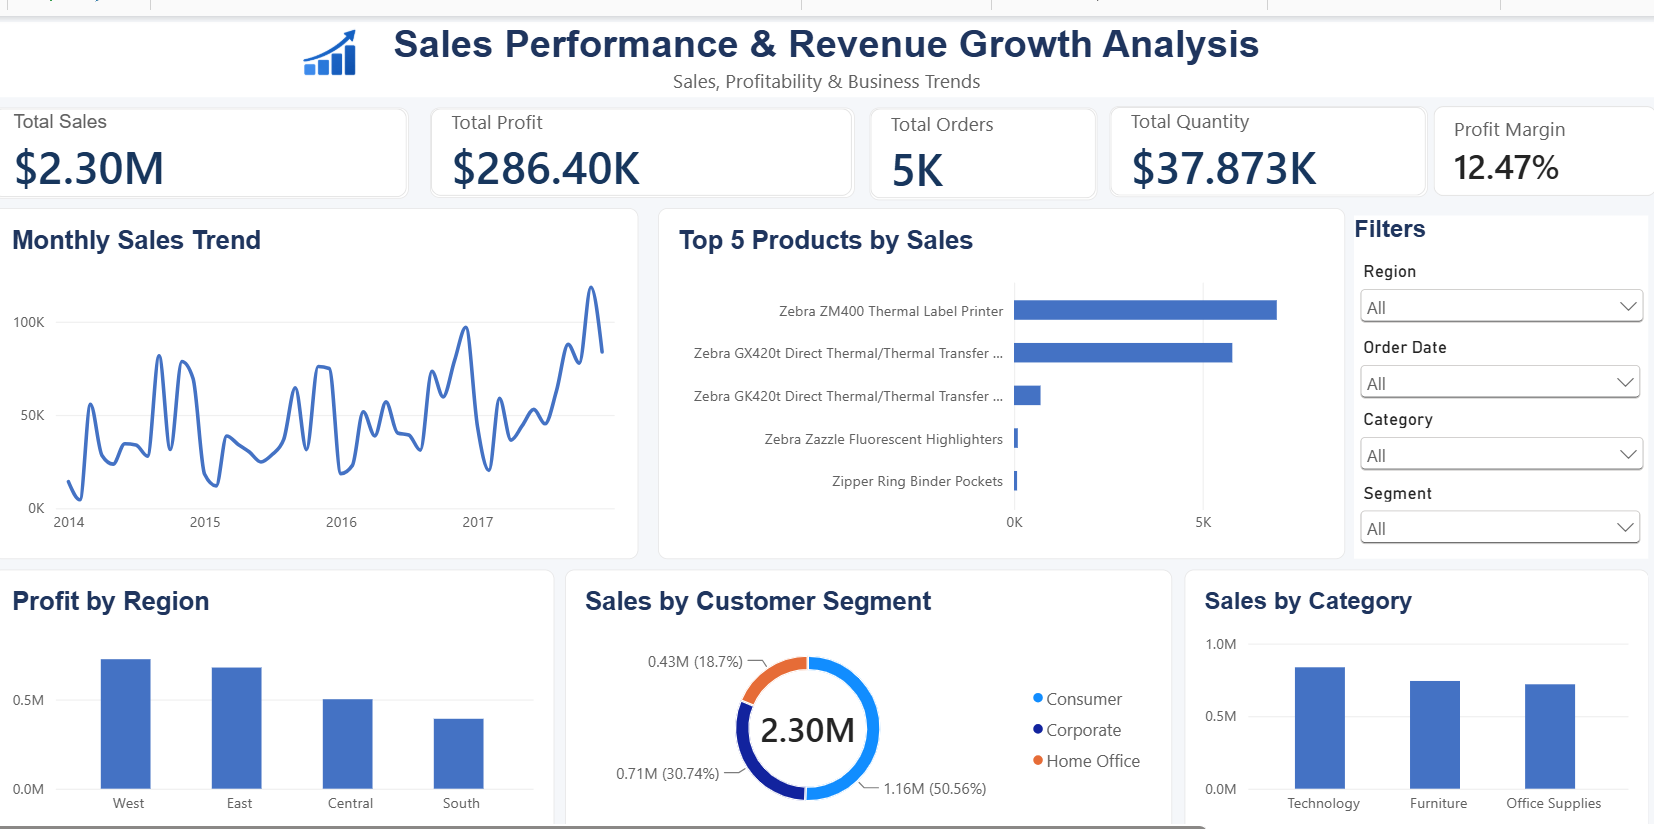

The page's visual inventory and layout, read from the dashboard file:
{"tool":"powerbi","page":{"name":"Sales Overview","canvas":[1920,1080],"ordinal":0},"visuals":[{"type":"cardVisual","fields":{"Data":["Superstore_Cleaned.Total Sales"]},"box":[0,80,347.5,76.2],"z":0},{"type":"cardVisual","fields":{"Data":["Superstore_Cleaned.Total Profit"]},"box":[365,80,353.8,75],"z":1},{"type":"cardVisual","fields":{"Data":["Superstore_Cleaned.Total Quantity"]},"box":[931.2,80,265,76.2],"z":2},{"type":"cardVisual","fields":{"Data":["Superstore_Cleaned.Total Orders"]},"box":[731.2,80,190,77.5],"z":3},{"type":"lineChart","title":"Monthly Sales Trend","fields":{"Category":["Superstore_Cleaned.Order Date.Variation.Date Hierarchy.Year","Superstore_Cleaned.Order Date.Variation.Date Hierarchy.Month"],"Y":["Sum(Superstore_Cleaned.Sales)"]},"box":[0,165,538.8,292.5],"z":4},{"type":"donutChart","title":"Sales by Customer Segment","fields":{"Category":["Superstore_Cleaned.Segment"],"Y":["Sum(Superstore_Cleaned.Sales)"]},"box":[477.5,466.2,506.2,227.5],"z":9},{"type":"slicer","title":"Filters","fields":{"Values":["Superstore_Cleaned.Region"]},"box":[1135,171.2,246.2,286.2],"z":10},{"type":"slicer","title":"Filter by Order Date","fields":{"Values":["Superstore_Cleaned.Order Date"]},"box":[1135,272.5,243.8,60],"z":11},{"type":"clusteredColumnChart","title":"Profit by Region","fields":{"Category":["Superstore_Cleaned.Region"],"Y":["Sum(Superstore_Cleaned.Sales)"]},"box":[0,466.2,468.8,225],"z":13},{"type":"clusteredBarChart","title":"Top 5 Products by Sales ","fields":{"Category":["Superstore_Cleaned.Product Name"],"Y":["Sum(Superstore_Cleaned.Sales)"]},"box":[555,165,572.5,292.5],"z":15},{"type":"clusteredColumnChart","title":"Sales by Category","fields":{"Category":["Superstore_Cleaned.Category"],"Y":["Sum(Superstore_Cleaned.Sales)"]},"box":[993.8,466.2,387.5,225],"z":16},{"type":"cardVisual","fields":{"Data":["Superstore_Cleaned.Profit Margin"]},"box":[1201.2,80,187.5,75],"z":17},{"type":"slicer","fields":{"Values":["Superstore_Cleaned.Category"]},"box":[1135,332.5,246.2,61.2],"z":18},{"type":"slicer","fields":{"Values":["Superstore_Cleaned.Segment"]},"box":[1135,393.8,243.8,60],"z":19},{"type":"textbox","title":"Sales Performance & Revenue Growth Analysis","box":[0,10,1391.2,62.5],"z":20},{"type":"image","box":[223.8,10,115,51.2],"z":21}]}

Visuals, with their boxes on the page's 1920x1080 design canvas (x1, y1, x2, y2). These are canvas units, not pixel positions in the 1654x829 screenshot, which may show the page scaled, cropped or inside an application window:
cardVisual - Superstore_Cleaned.Total Sales: [left=0, top=80, right=348, bottom=156]
cardVisual - Superstore_Cleaned.Total Profit: [left=365, top=80, right=719, bottom=155]
cardVisual - Superstore_Cleaned.Total Quantity: [left=931, top=80, right=1196, bottom=156]
cardVisual - Superstore_Cleaned.Total Orders: [left=731, top=80, right=921, bottom=158]
"Monthly Sales Trend" lineChart: [left=0, top=165, right=539, bottom=458]
"Sales by Customer Segment" donutChart: [left=478, top=466, right=984, bottom=694]
"Filters" slicer: [left=1135, top=171, right=1381, bottom=457]
"Filter by Order Date" slicer: [left=1135, top=272, right=1379, bottom=332]
"Profit by Region" clusteredColumnChart: [left=0, top=466, right=469, bottom=691]
"Top 5 Products by Sales " clusteredBarChart: [left=555, top=165, right=1128, bottom=458]
"Sales by Category" clusteredColumnChart: [left=994, top=466, right=1381, bottom=691]
cardVisual - Superstore_Cleaned.Profit Margin: [left=1201, top=80, right=1389, bottom=155]
slicer - Superstore_Cleaned.Category: [left=1135, top=332, right=1381, bottom=394]
slicer - Superstore_Cleaned.Segment: [left=1135, top=394, right=1379, bottom=454]
"Sales Performance & Revenue Growth Analysis" textbox: [left=0, top=10, right=1391, bottom=72]
image: [left=224, top=10, right=339, bottom=61]
